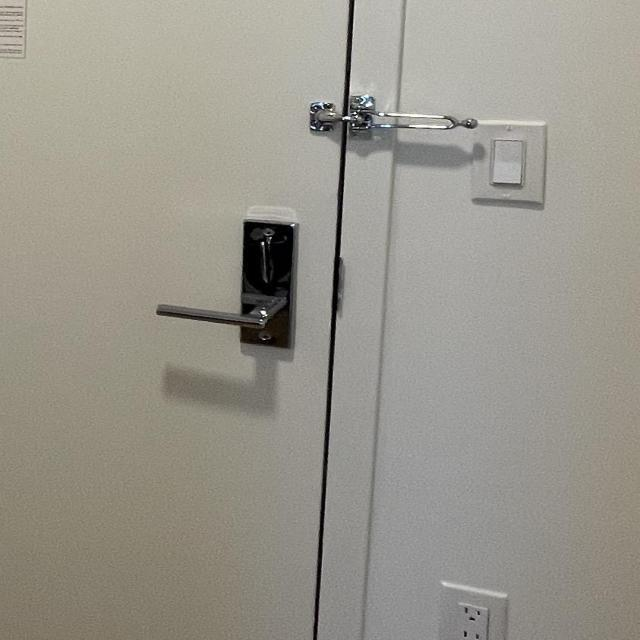door_handle: (138, 286, 317, 346)
